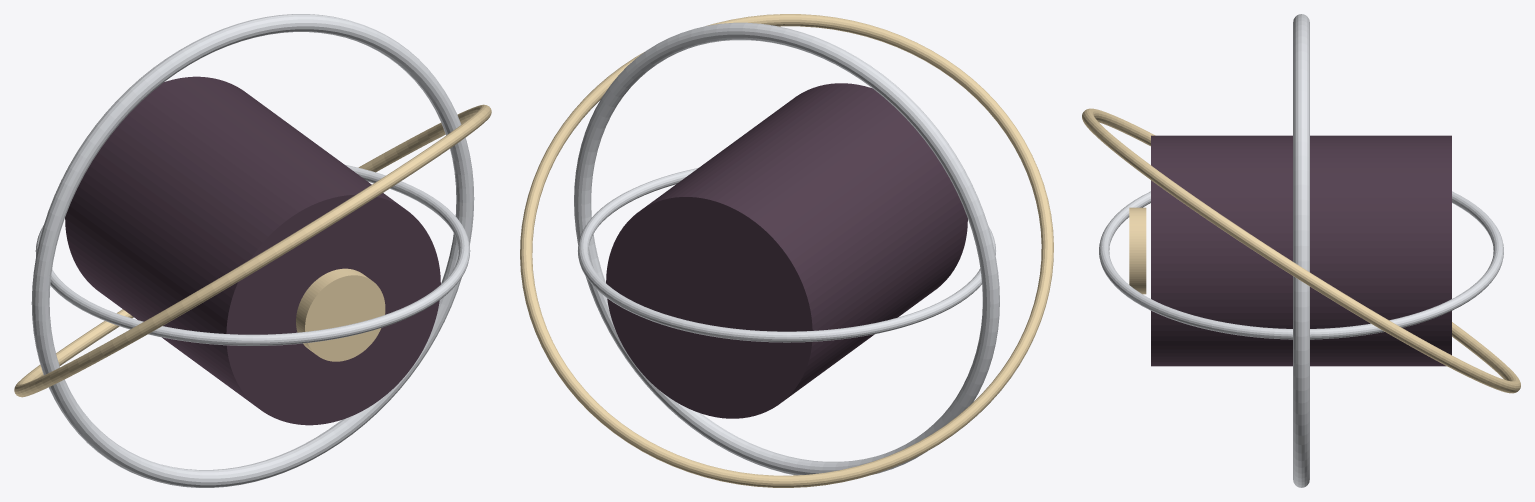
Rendered from 02_orbital_sculpture.glb.
3 renders of one model, left to right at view 1: azimuth 30°, elevation 25°; view 2: azimuth 150°, elevation 25°; view 3: azimuth 270°, elevation 25°, orthographic. The views are drawn at different scales.
Visible parts, largest first — view 1: Obsidian core, Equatorial orbit, Inclined gold orbit, Vertical orbit, Top gold cap; view 2: Obsidian core, Equatorial orbit, Inclined gold orbit, Vertical orbit; view 3: Obsidian core, Inclined gold orbit, Equatorial orbit, Vertical orbit, Top gold cap.
Part boxes in pixels (x1,y1,x2,y2): Obsidian core: (65,76,440,425); Equatorial orbit: (31,14,474,487); Inclined gold orbit: (14,104,491,397); Vertical orbit: (35,165,470,345); Top gold cap: (296,268,385,361); Obsidian core: (606,83,967,418); Equatorial orbit: (574,22,999,475); Inclined gold orbit: (520,14,1053,487); Vertical orbit: (578,168,995,342); Obsidian core: (1151,135,1451,366); Inclined gold orbit: (1082,108,1520,393); Equatorial orbit: (1293,14,1309,487); Vertical orbit: (1099,191,1503,339); Top gold cap: (1129,207,1146,294).
Bounding box in the file's own units: 2.06 × 1.97 × 1.82.
